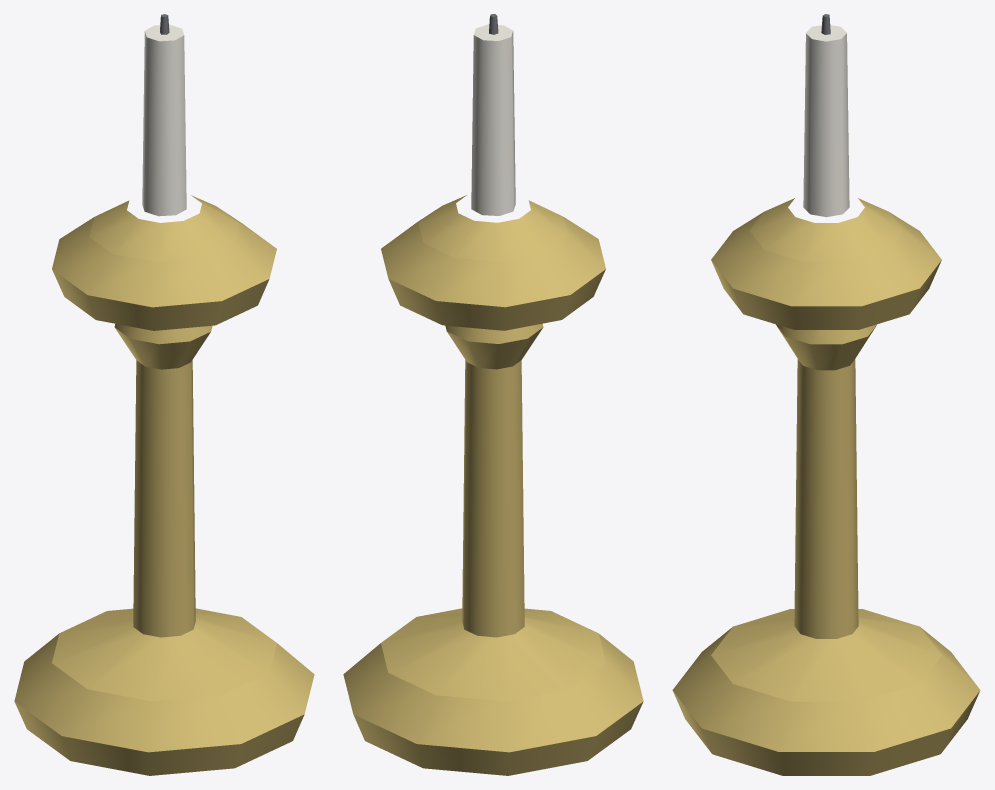
Rendered from candle-stand-5ad08fb0.glb.
3 views of the same model, side by side, from view 1: azimuth 30°, elevation 25°; view 2: azimuth 150°, elevation 25°; view 3: azimuth 270°, elevation 25° (orthographic).
Visible parts, largest first — view 1: candle-stand; view 2: candle-stand; view 3: candle-stand.
Boxes of the visible parts, <box> form: candle-stand: <box>14,14,314,775</box>; candle-stand: <box>343,14,643,775</box>; candle-stand: <box>672,14,980,775</box>.
Size of the model in its own units: 0.4565 by 1.21 by 0.48.
